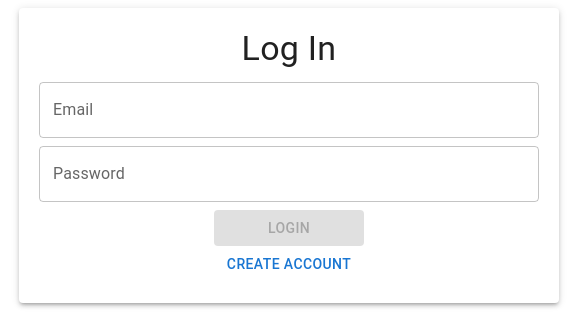
Test: Create Account button works
Click the button "Create Account".
click(289, 265)  # box [39,246,539,283]
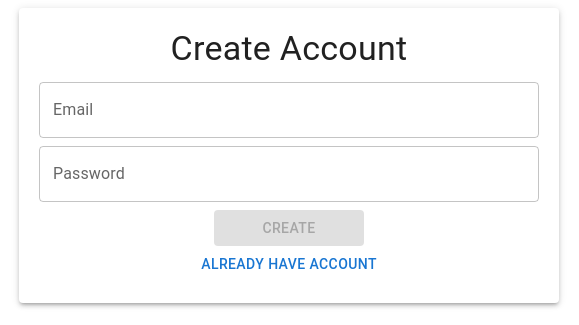
Now the button "Create" is shown, box [214,210,364,246]
Now the button "Already Have Account" is shown, box [39,246,539,283]
